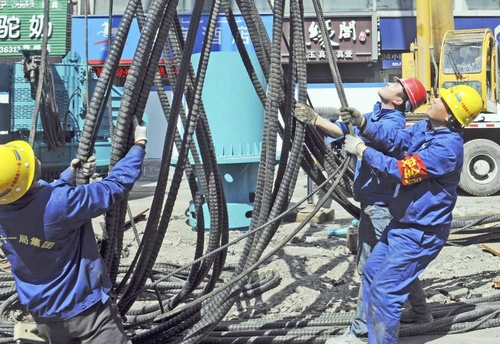red: (376, 75, 426, 115)
yellow: (422, 80, 485, 132), (1, 139, 44, 209)
